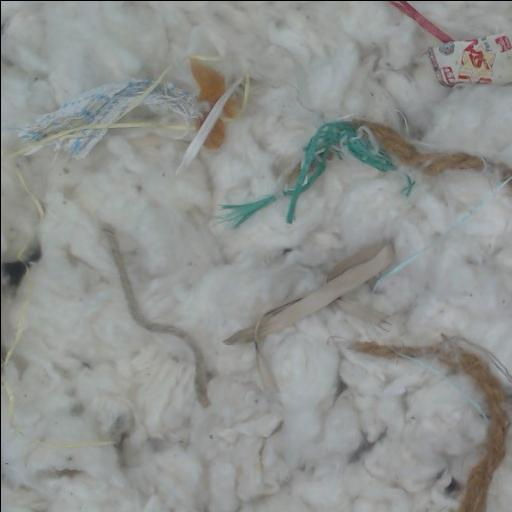cloth: (281, 121, 393, 223), (219, 195, 276, 226)
conveyor belt: (1, 1, 512, 512)
jute: (349, 336, 509, 512), (103, 227, 211, 406), (403, 139, 512, 179), (361, 120, 403, 145)
packet: (428, 36, 512, 84)
thread: (224, 243, 394, 395), (16, 72, 201, 157), (176, 78, 240, 172)
